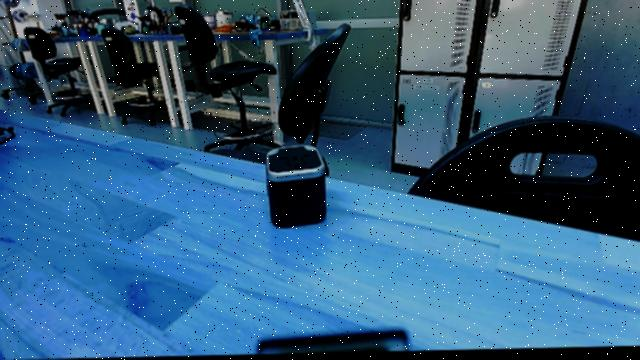adapter: (262, 144, 328, 230)
